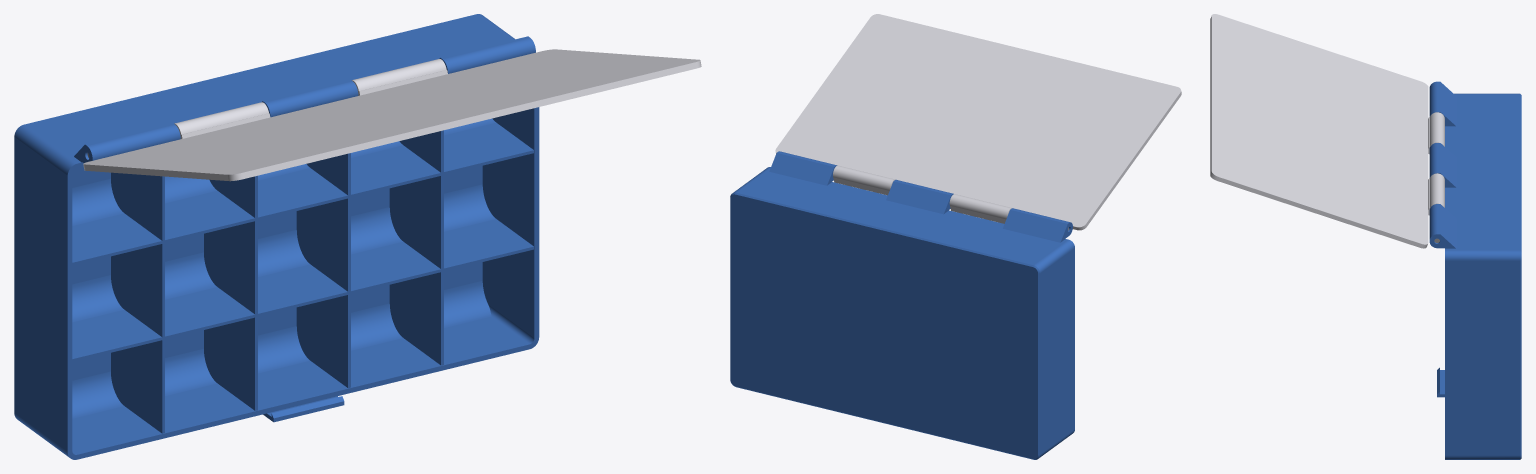
The model's file is variant-COLS_5-ROWS_3.glb.
The picture shows the model from 3 angles, left to right: view 1: azimuth 30°, elevation 25°; view 2: azimuth 150°, elevation 25°; view 3: azimuth 270°, elevation 25°; orthographic projection. The views are drawn at different scales.
Visible parts, largest first — view 1: 0:Kasten, 1:Deckel; view 2: 0:Kasten, 1:Deckel; view 3: 1:Deckel, 0:Kasten.
Part boxes in pixels (<box>): 0:Kasten: <box>14,14,539,459</box>; 1:Deckel: <box>83,49,701,181</box>; 0:Kasten: <box>730,151,1074,459</box>; 1:Deckel: <box>775,14,1181,230</box>; 1:Deckel: <box>1210,14,1444,248</box>; 0:Kasten: <box>1429,81,1521,459</box>.
Size of the model in its own units: 200 by 167 by 162.
